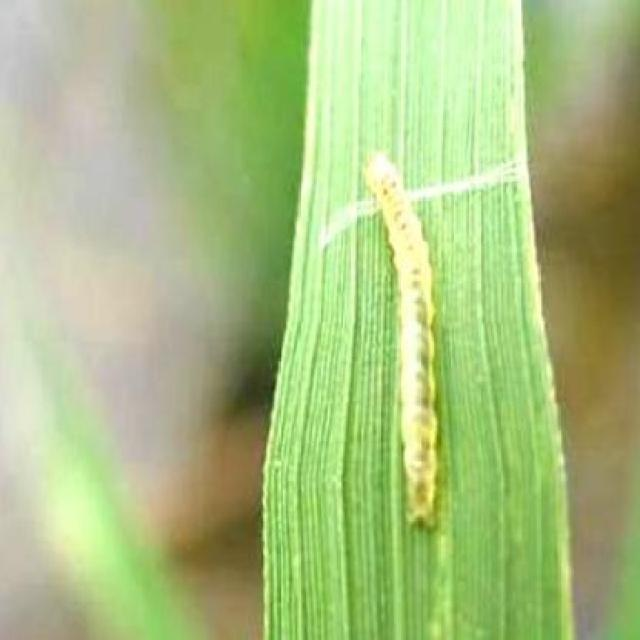leaf-folder: (349, 133, 457, 532)
